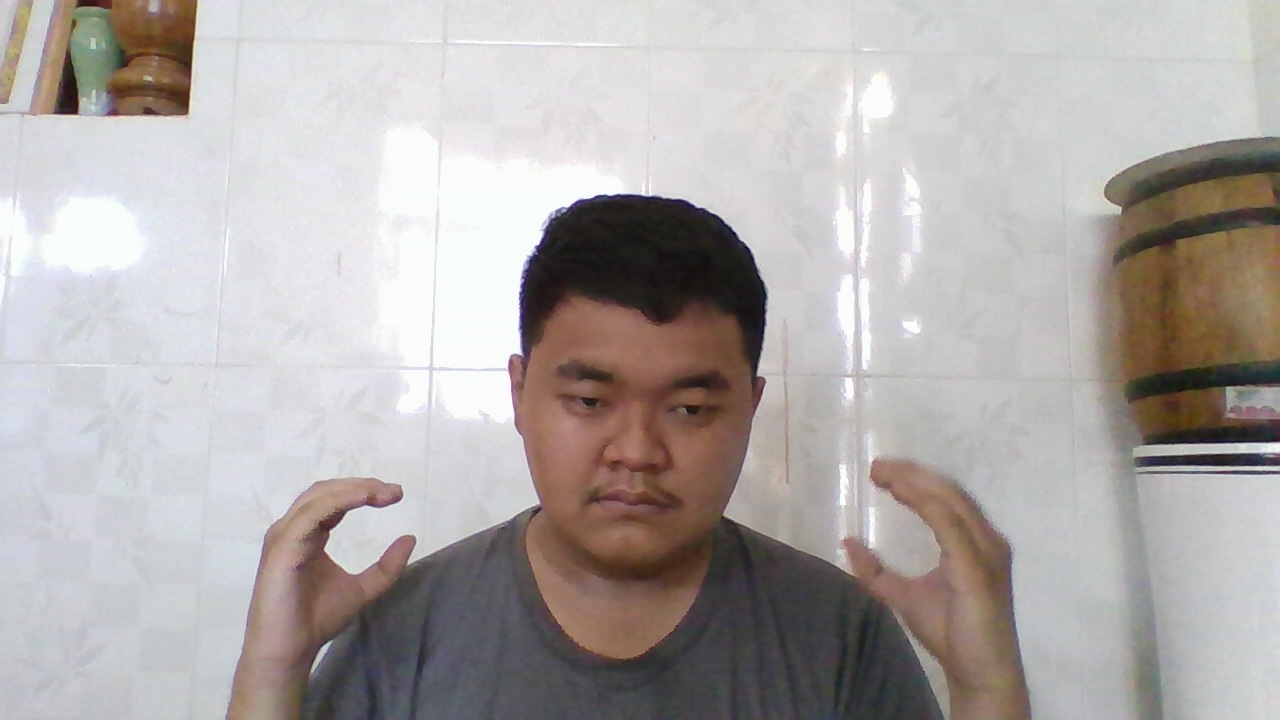C: (836, 451, 1014, 701), (263, 468, 422, 675)
